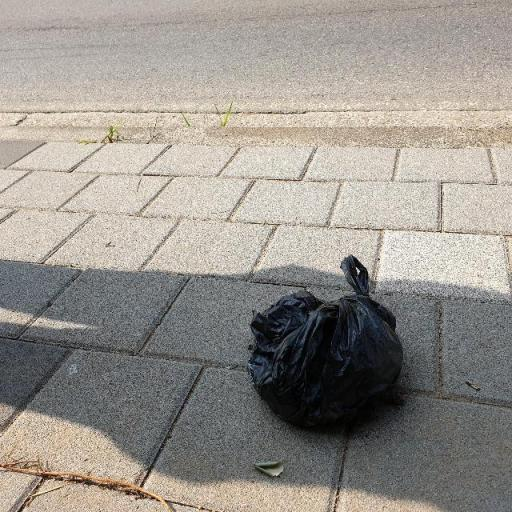plastic-bag: (248, 252, 412, 442)
